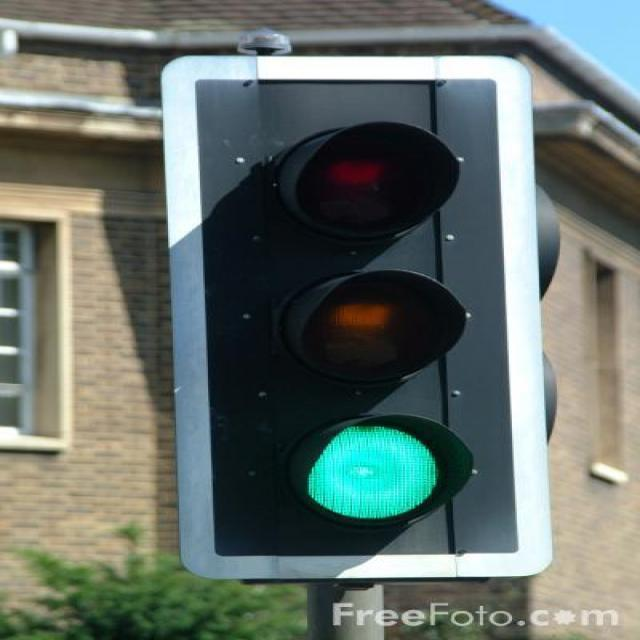green_light: (204, 81, 508, 546)
